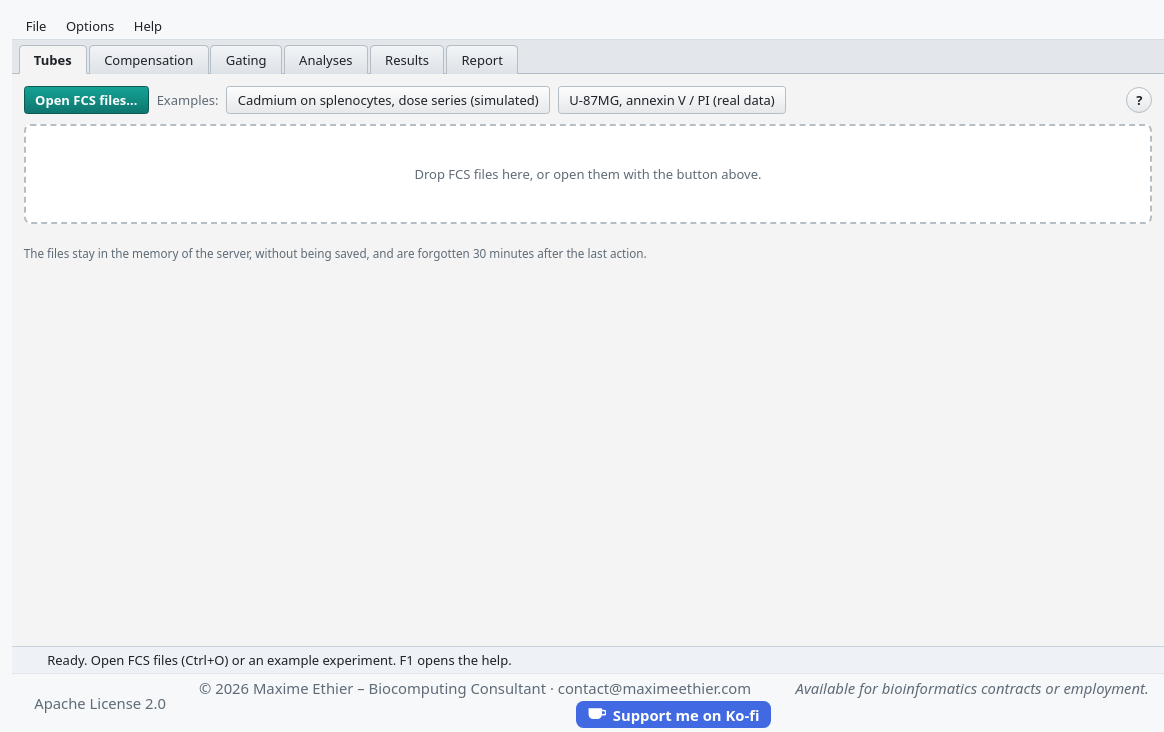
Test: Results tab › explains why an analysis is missing
Click the button "Cadmium on splenocytes, dose series (simulated)".
click(388, 100)  # box 226,86 -> 550,114
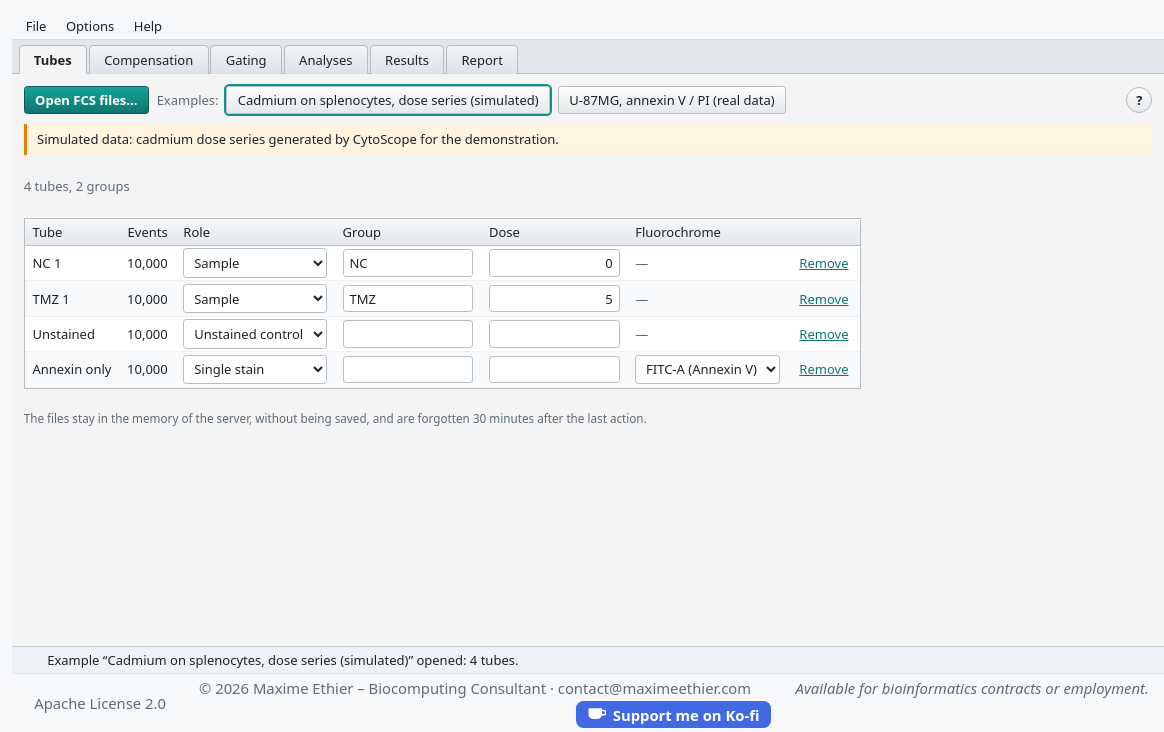
Result: the table named "Tubes" is shown at 25,219 -> 860,388
Click the tab "Results".
click(407, 60)  # box 370,45 -> 444,74
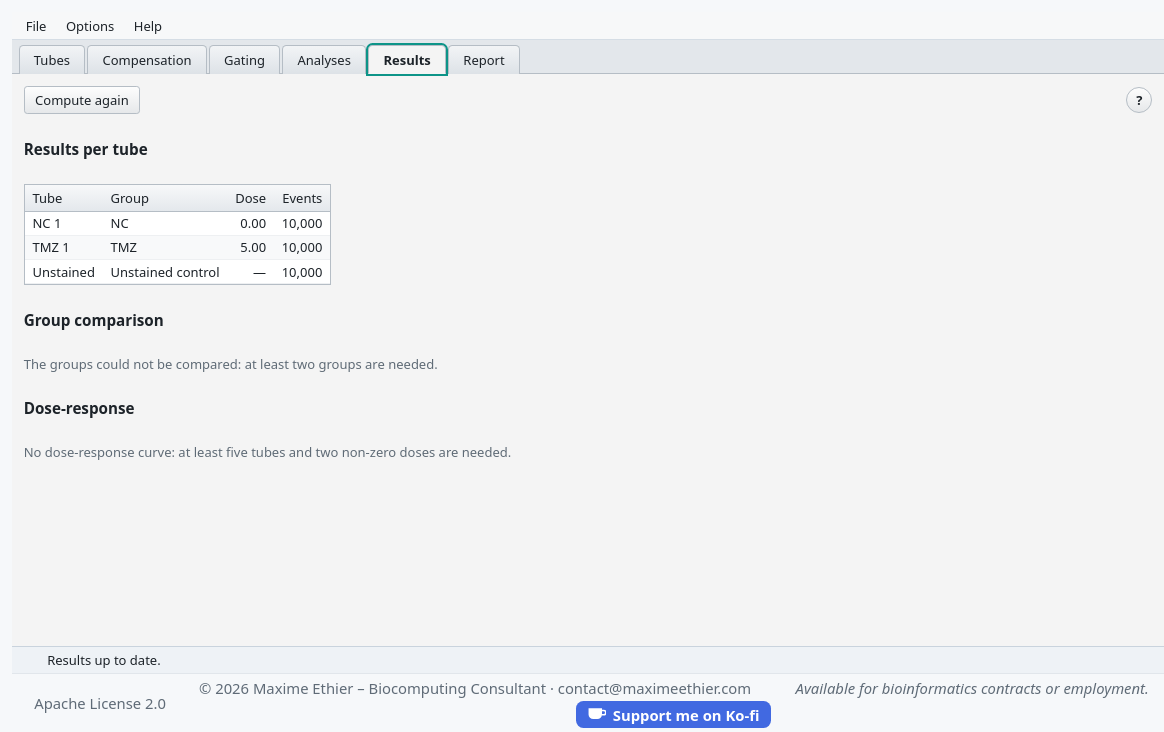
Result: the text "The groups could not be compared: at least two groups are needed." is shown at 24,355 -> 438,373
Result: the text "No dose-response curve: at least five tubes and two non-zero doses are needed." is shown at 24,443 -> 511,461
